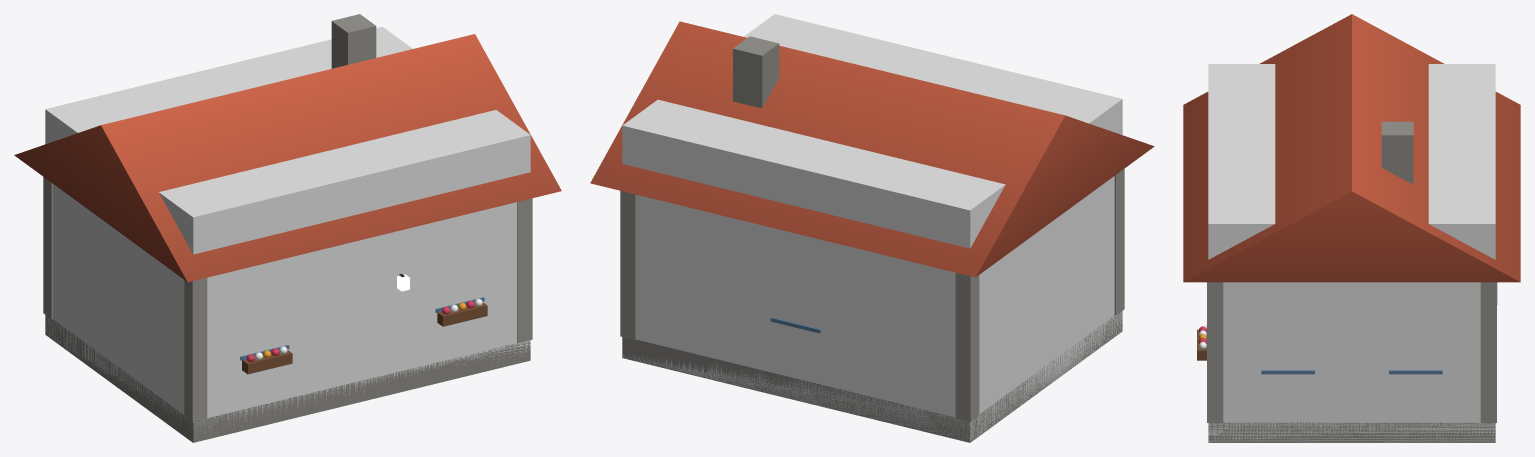
The model's file is casa_campo.glb.
The picture shows the model from 3 angles, left to right: view 1: azimuth 30°, elevation 25°; view 2: azimuth 150°, elevation 25°; view 3: azimuth 270°, elevation 25°; orthographic projection. The views are drawn at different scales.
Visible parts, largest first — view 1: COL_0, casa_campo_Malla; view 2: COL_0, casa_campo_Malla; view 3: COL_0, casa_campo_Malla.
Boxes of the visible parts, x1=… form: COL_0: x1=45, y1=27, x2=530, y2=440; casa_campo_Malla: x1=14, y1=14, x2=561, y2=442; COL_0: x1=622, y1=14, x2=1122, y2=442; casa_campo_Malla: x1=590, y1=21, x2=1154, y2=442; COL_0: x1=1208, y1=64, x2=1495, y2=442; casa_campo_Malla: x1=1183, y1=14, x2=1520, y2=442.
Bounding box in the file's own units: 9.2 × 6.7 × 7.4.
